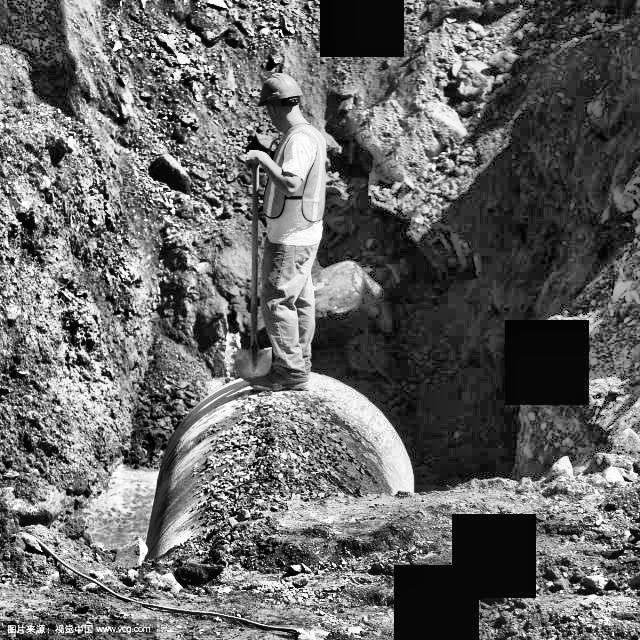safety_helmet: (260, 73, 304, 108)
safety_jacket: (262, 125, 328, 224)
